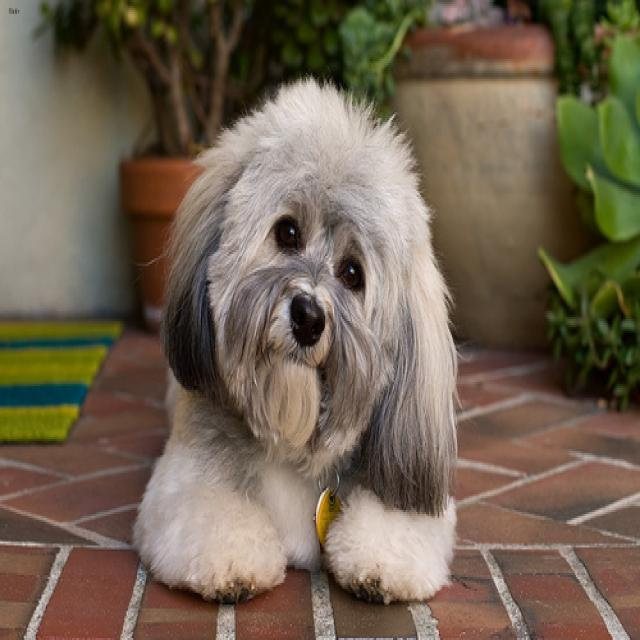dog-havanese: (127, 63, 465, 614)
